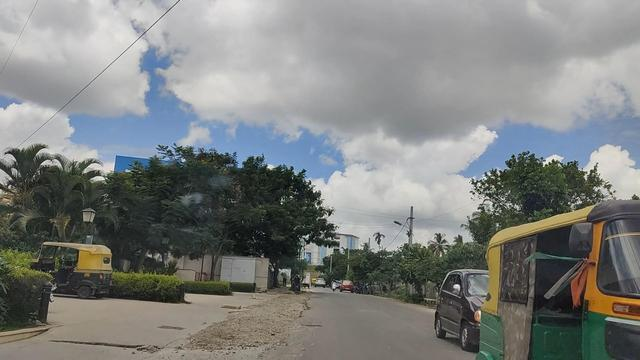RoadDamages: (243, 314, 321, 360), (267, 292, 346, 320)
